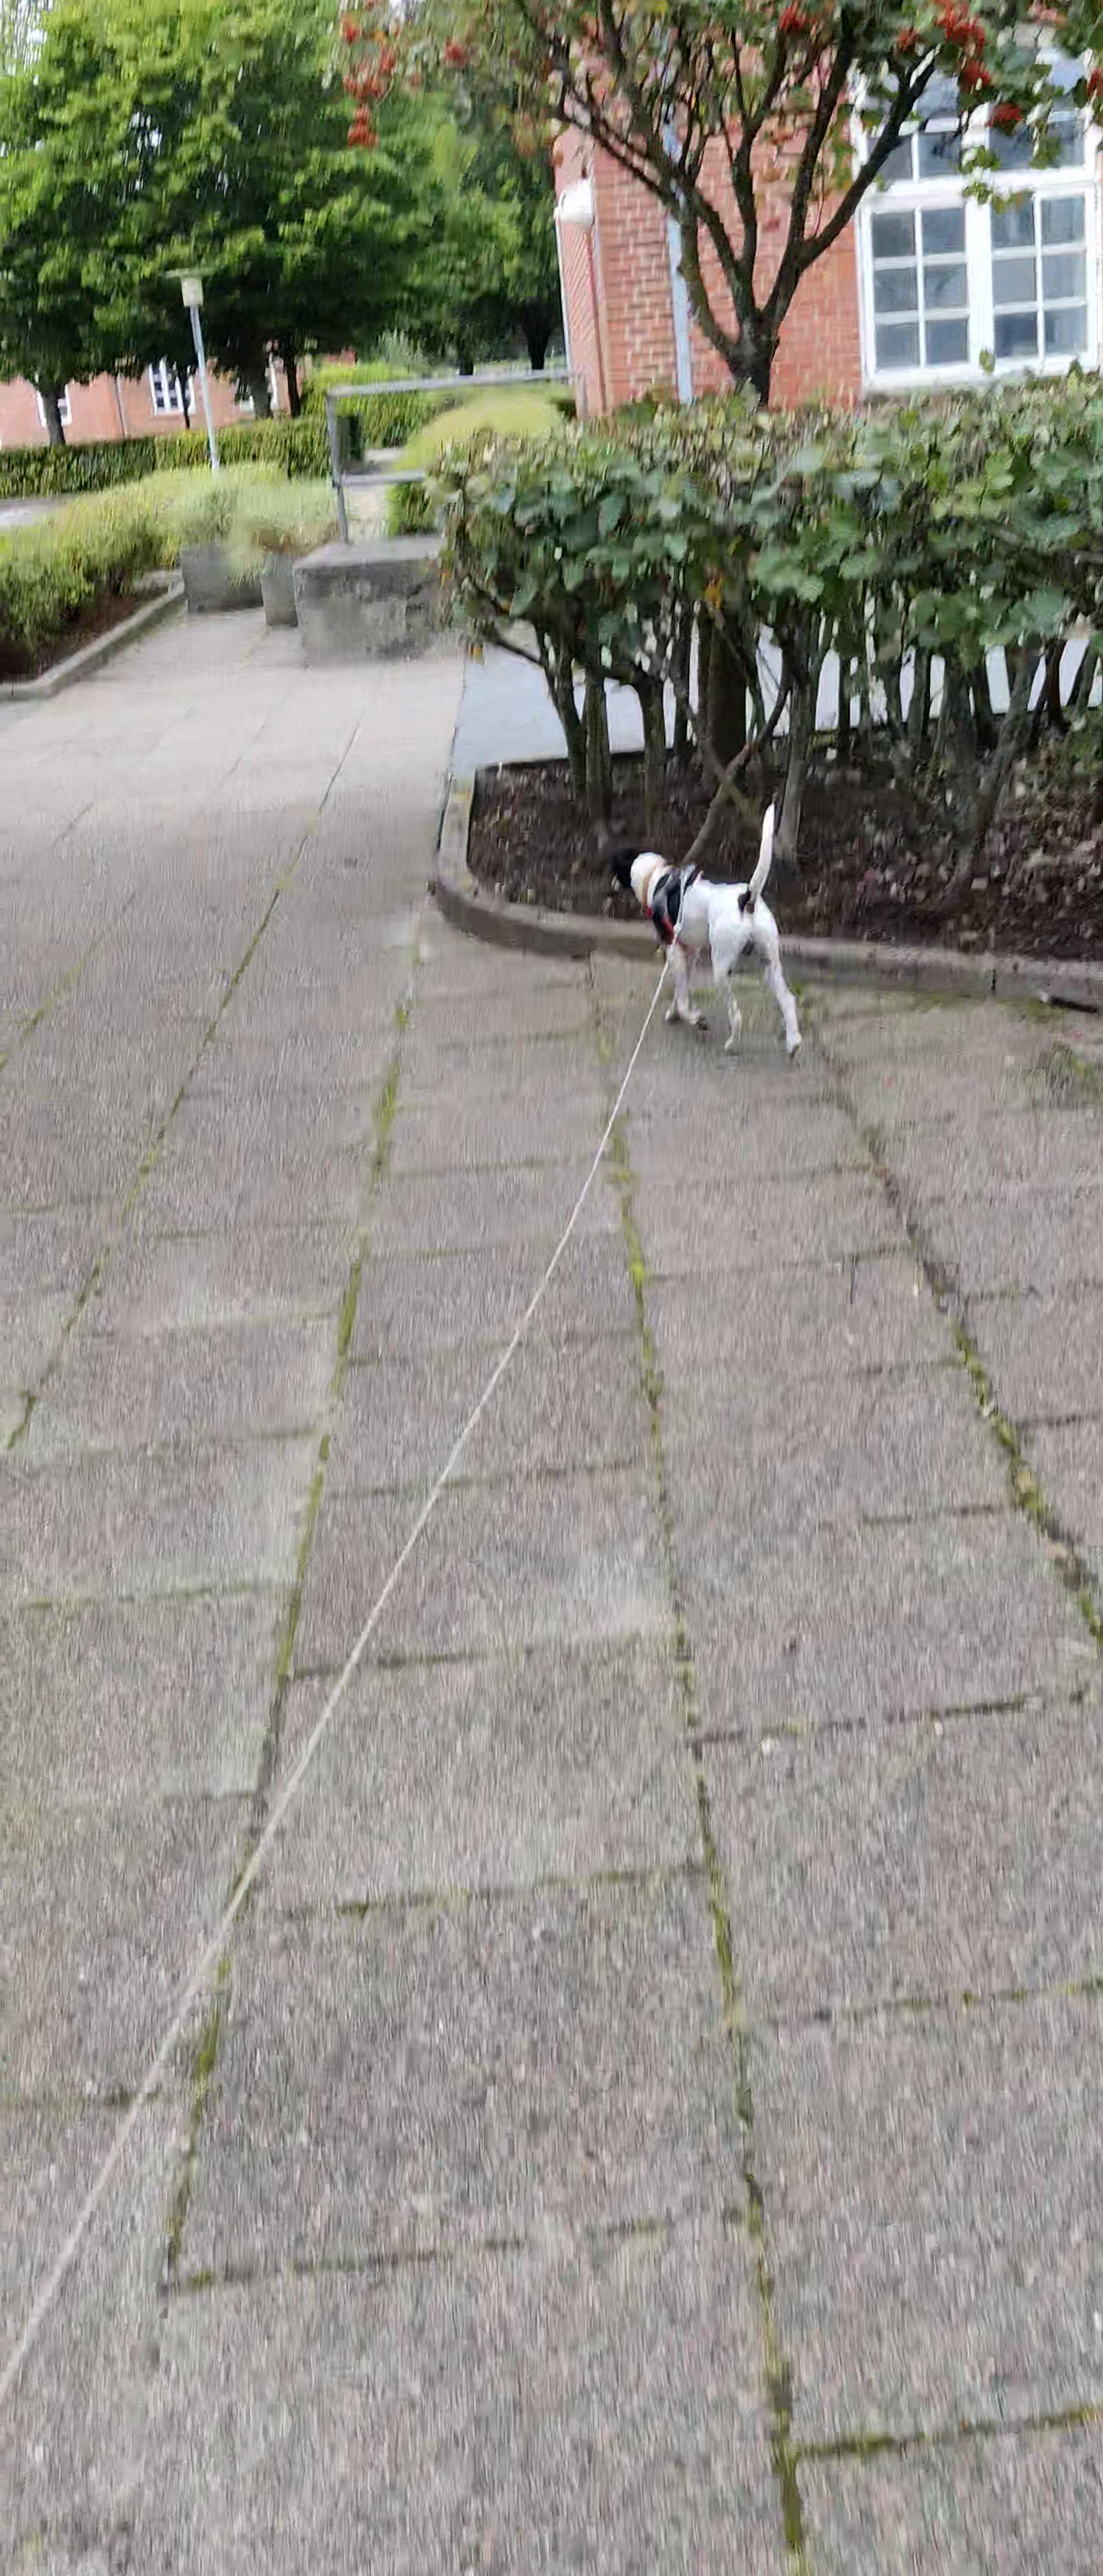Dog: (600, 795, 807, 1060)
